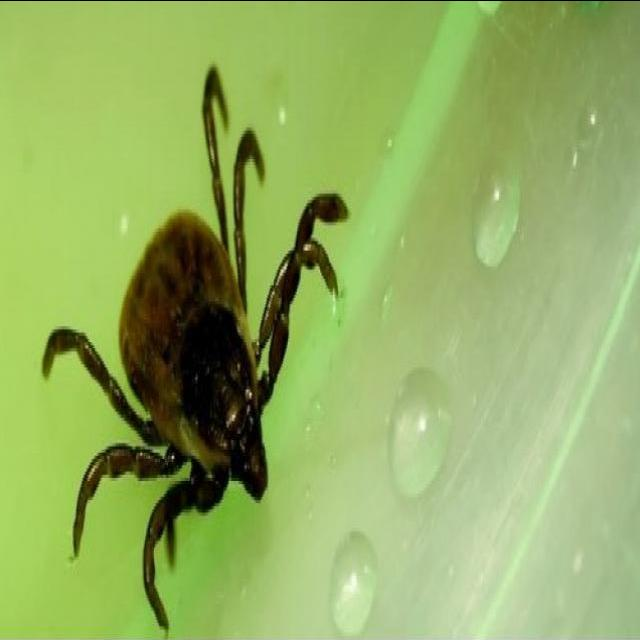Rhipicephalus Sanguineus-F: (42, 64, 350, 636)
